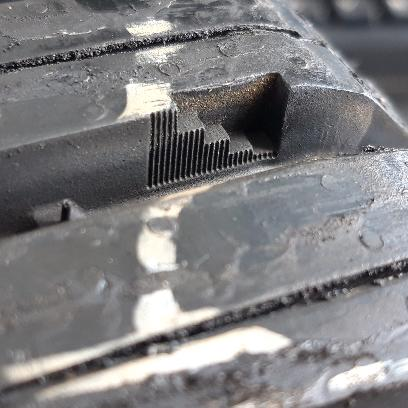temoin:100: (145, 71, 292, 192)
